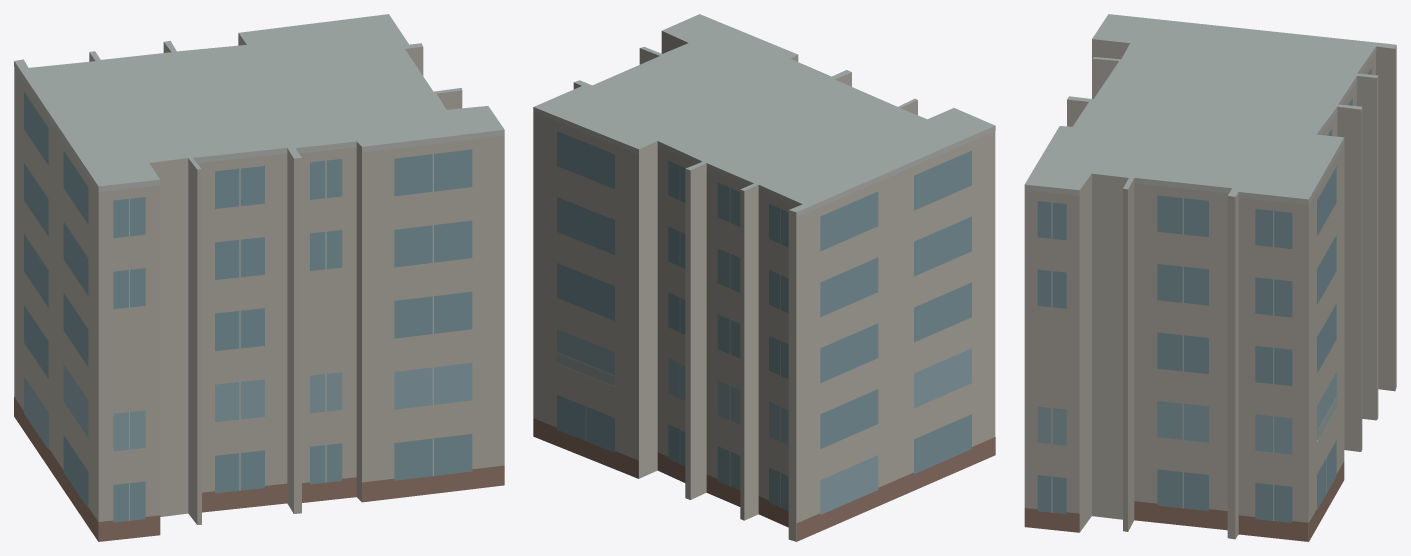
File: survey-upis-32755828.glb
The picture shows the model from 3 angles, left to right: view 1: azimuth 30°, elevation 25°; view 2: azimuth 150°, elevation 25°; view 3: azimuth 270°, elevation 25°; orthographic projection. The views are drawn at different scales.
Parts seen in each view (by area): view 1: survey-upis-32755828.tmp; view 2: survey-upis-32755828.tmp; view 3: survey-upis-32755828.tmp.
Part boxes in pixels (x1=…): survey-upis-32755828.tmp: x1=14, y1=14, x2=504, y2=541; survey-upis-32755828.tmp: x1=533, y1=14, x2=995, y2=541; survey-upis-32755828.tmp: x1=1024, y1=14, x2=1396, y2=541.
Size of the model in its own units: 17.66 by 15.2 by 14.97.
